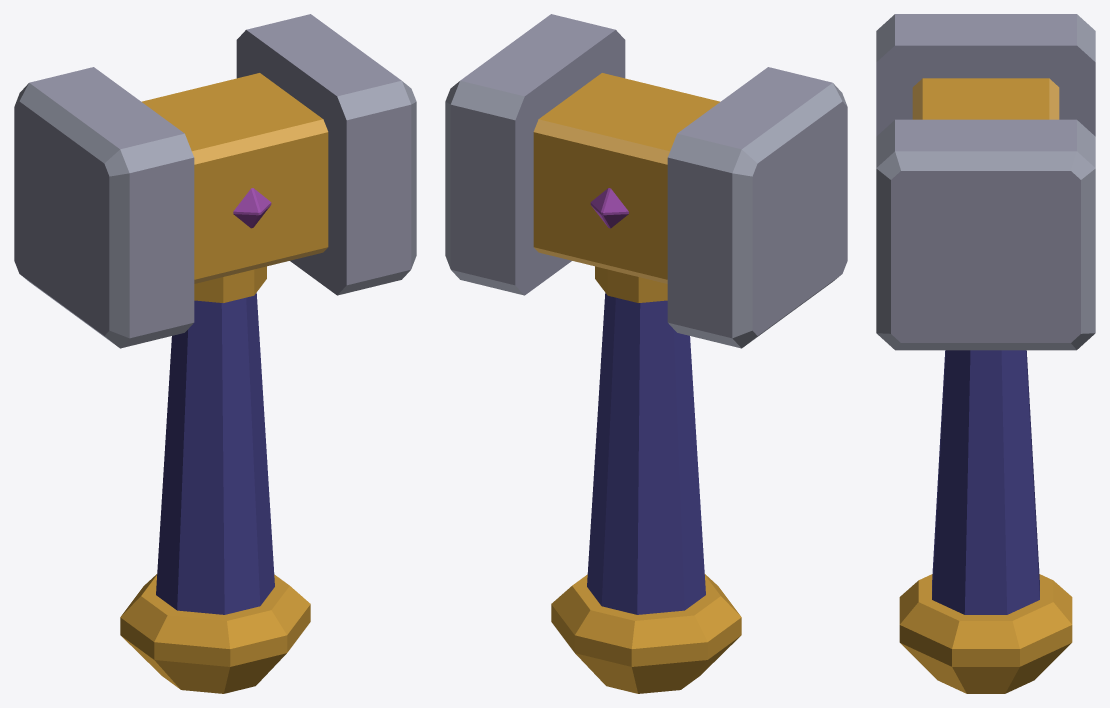
File: Hammer.fbx
3 views of the same model, side by side, from view 1: azimuth 30°, elevation 25°; view 2: azimuth 150°, elevation 25°; view 3: azimuth 270°, elevation 25° (orthographic).
Parts seen in each view (by area): view 1: Plane.017; view 2: Plane.017; view 3: Plane.017.
Part boxes in pixels (x1,y1,x2,y2): Plane.017: (14,14,416,693); Plane.017: (445,14,847,693); Plane.017: (876,14,1095,693).
Size of the model in its own units: 77.22 by 142 by 47.85.
